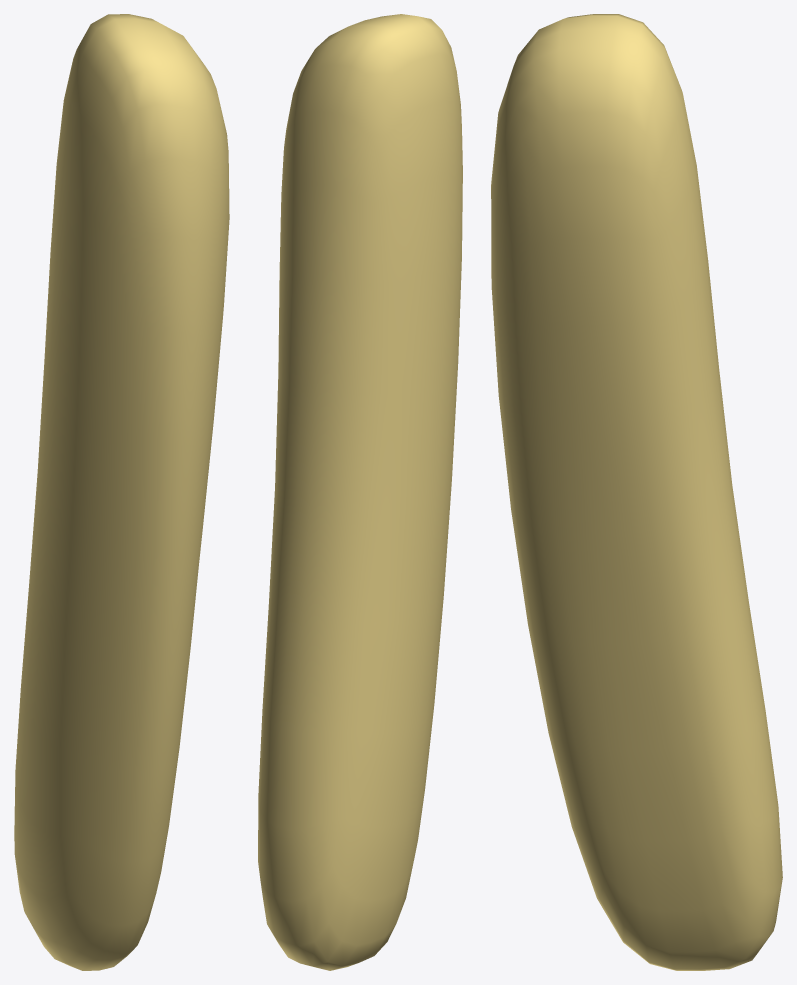
3 views of the same model, side by side, from view 1: azimuth 30°, elevation 25°; view 2: azimuth 150°, elevation 25°; view 3: azimuth 270°, elevation 25° (orthographic). The views are drawn at different scales.
Parts seen in each view (by area): view 1: ZA_fd78105c681fc635; view 2: ZA_fd78105c681fc635; view 3: ZA_fd78105c681fc635.
Part boxes in pixels (<box>): ZA_fd78105c681fc635: <box>14,14,229,970</box>; ZA_fd78105c681fc635: <box>258,14,462,970</box>; ZA_fd78105c681fc635: <box>491,14,782,970</box>.
Bounding box in the file's own units: 0.00136 × 0.00823 × 0.0023.
